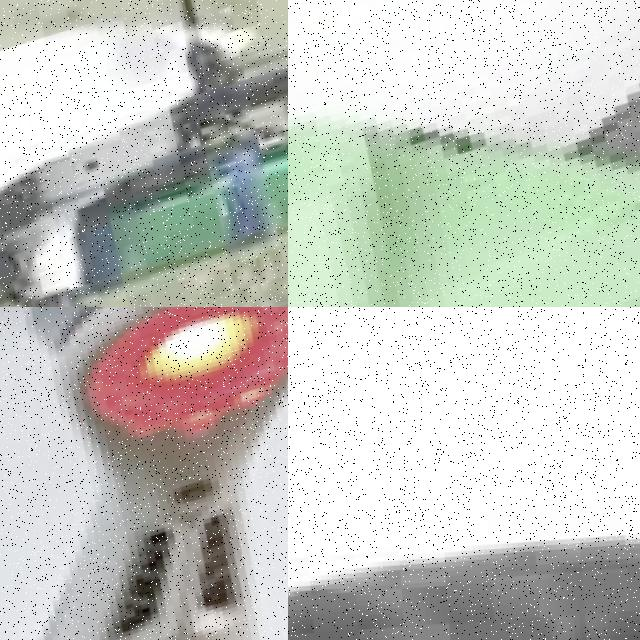0: (0, 0, 288, 307)
drone: (288, 0, 640, 307), (0, 307, 288, 640)
